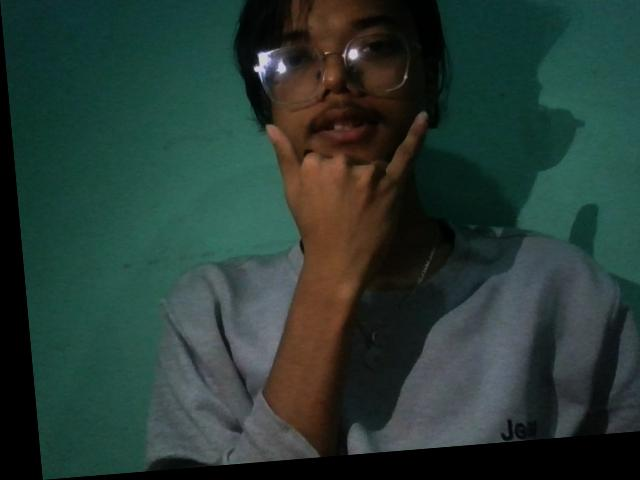Wrong: (246, 103, 463, 311)
